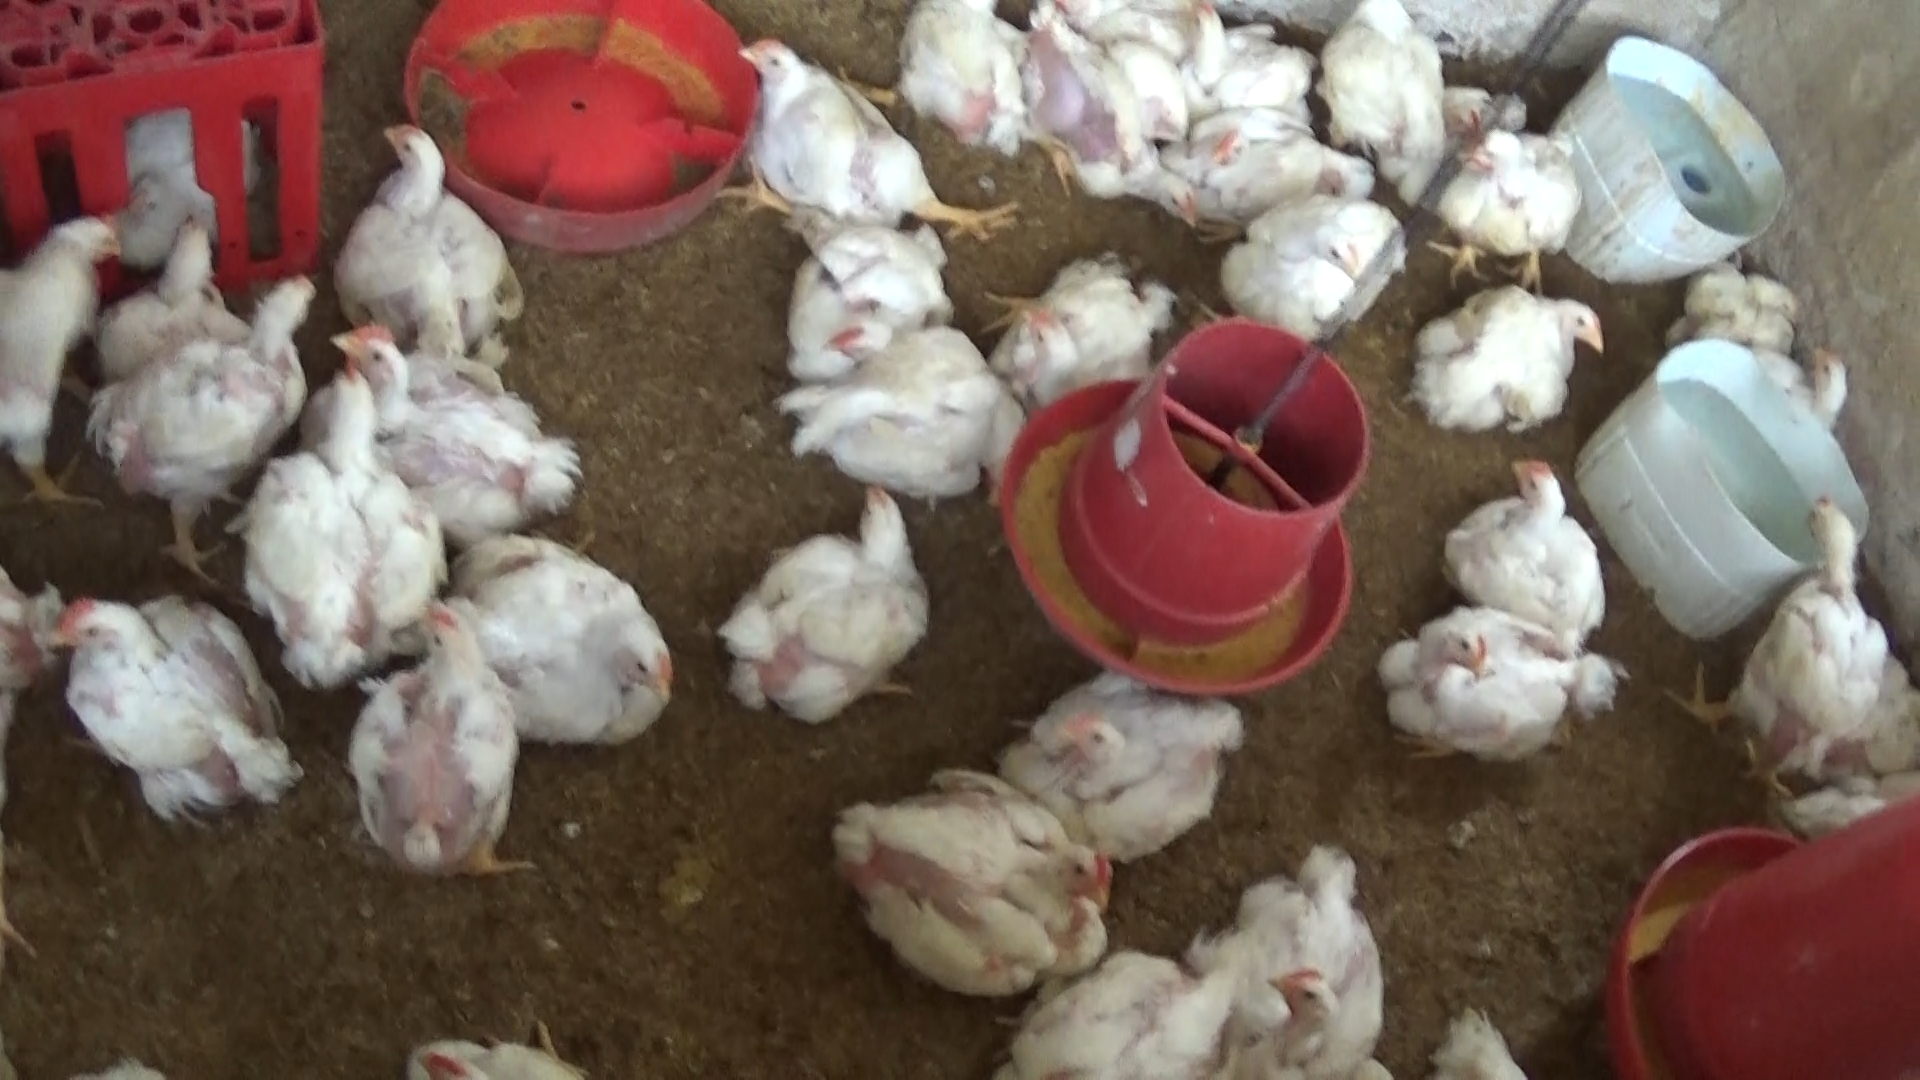Pollos: (806, 757, 1124, 996), (18, 564, 297, 822), (94, 272, 345, 549), (694, 17, 978, 247), (251, 363, 440, 692), (700, 479, 931, 723), (336, 311, 585, 529), (1182, 828, 1395, 1080), (765, 294, 1021, 504), (1730, 487, 1902, 787), (356, 607, 524, 891), (0, 179, 142, 506), (338, 105, 521, 359), (462, 541, 680, 748), (1025, 649, 1253, 847), (1377, 608, 1626, 775), (1017, 16, 1211, 220), (1431, 444, 1607, 667), (1393, 284, 1633, 435), (1015, 916, 1222, 1080), (1232, 164, 1408, 339), (884, 0, 1062, 167), (1178, 96, 1374, 229), (1451, 109, 1590, 287), (1313, 0, 1465, 158), (1002, 258, 1174, 394), (107, 204, 227, 388), (1162, 0, 1338, 117), (1734, 291, 1871, 433)
